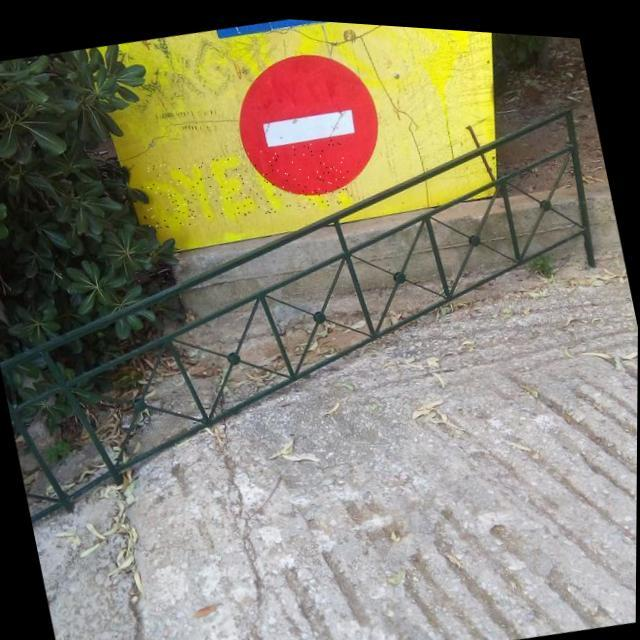-: (135, 123, 355, 240)
